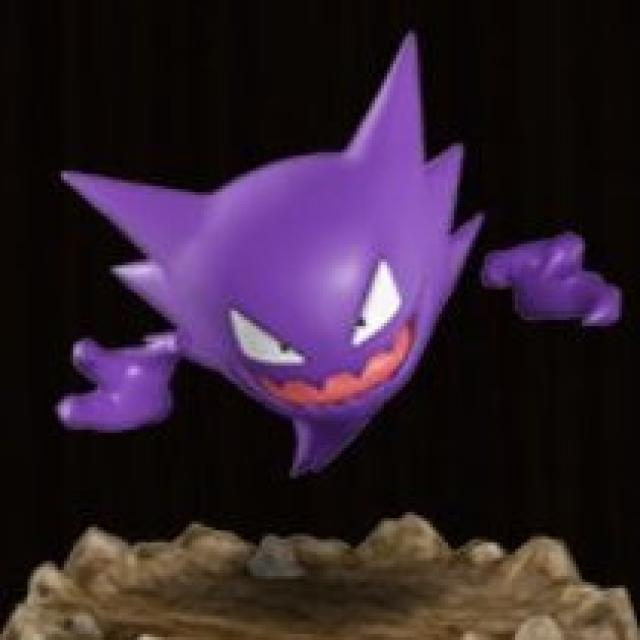Haunter: (56, 145, 507, 430)
